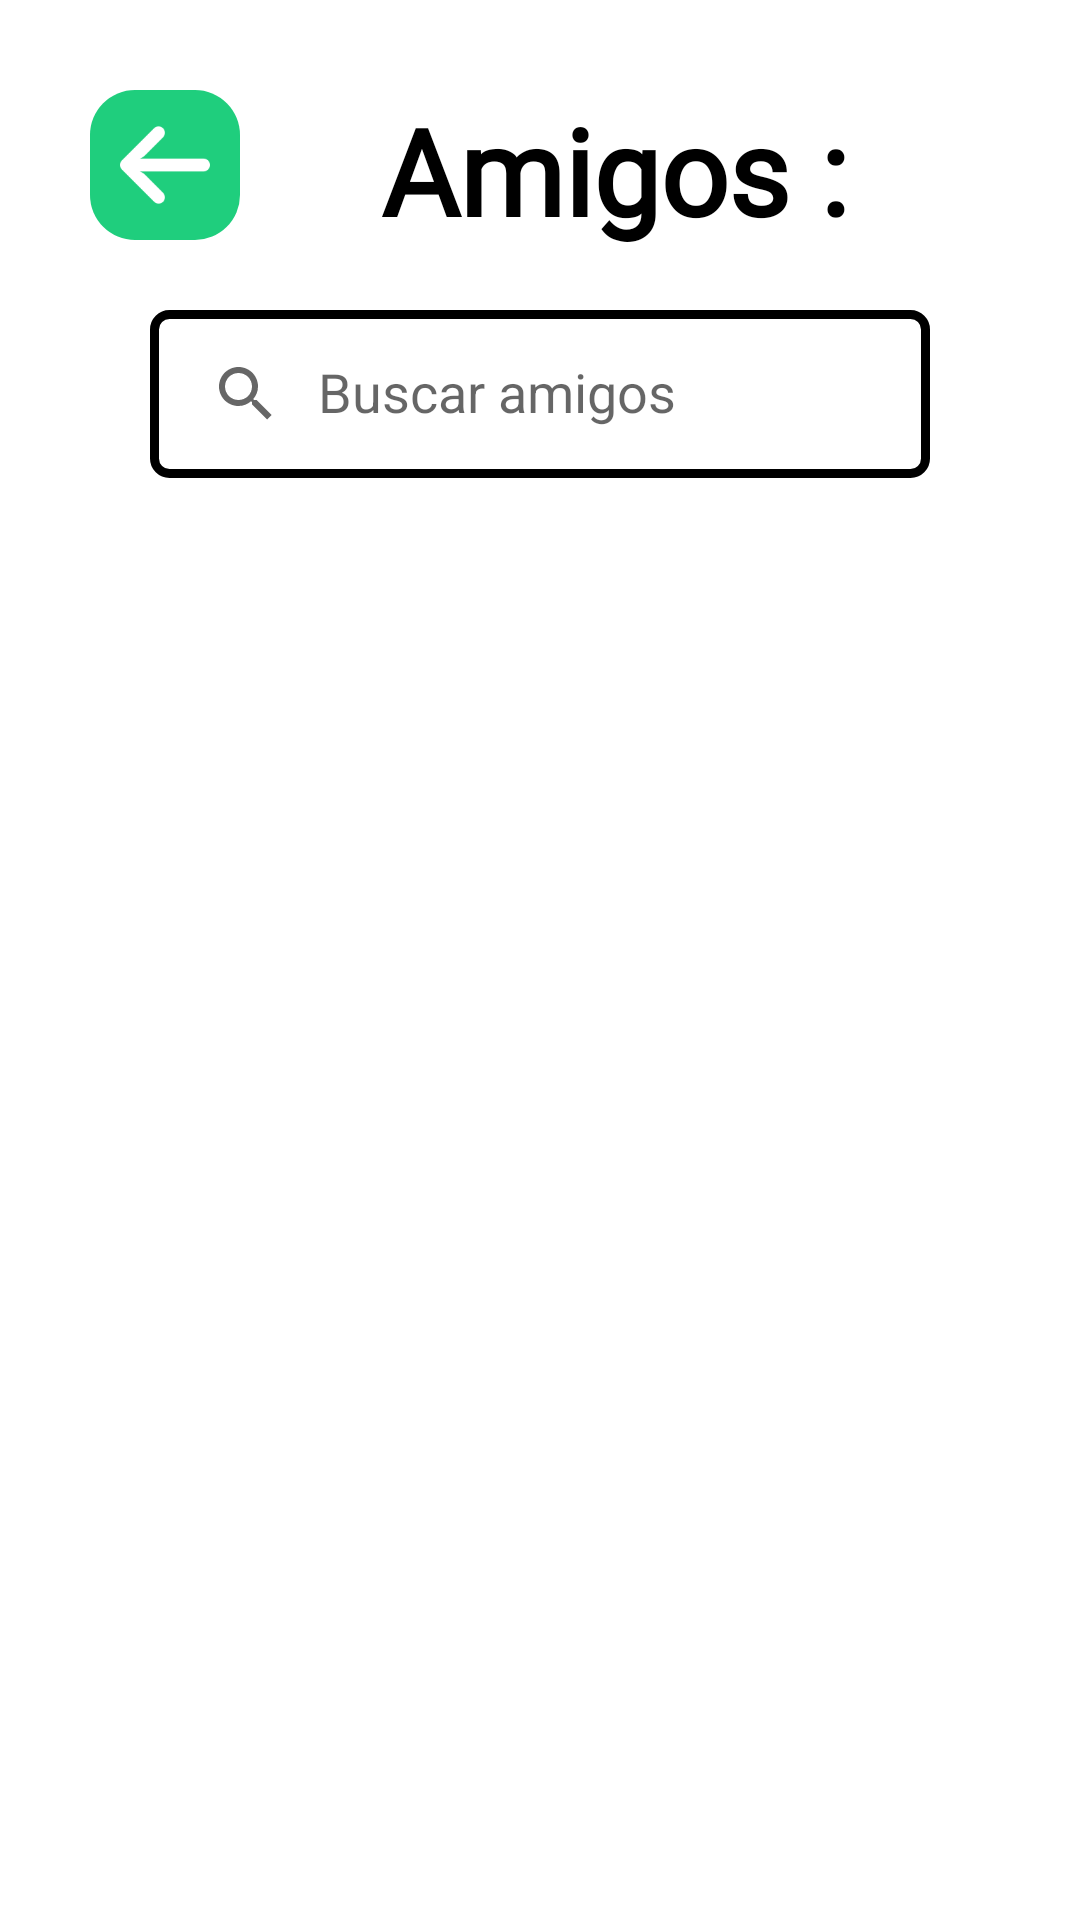

Icon click points for this 1080px×1920px phone screenshot, format point (x, y):
Volver: point (165, 165)
